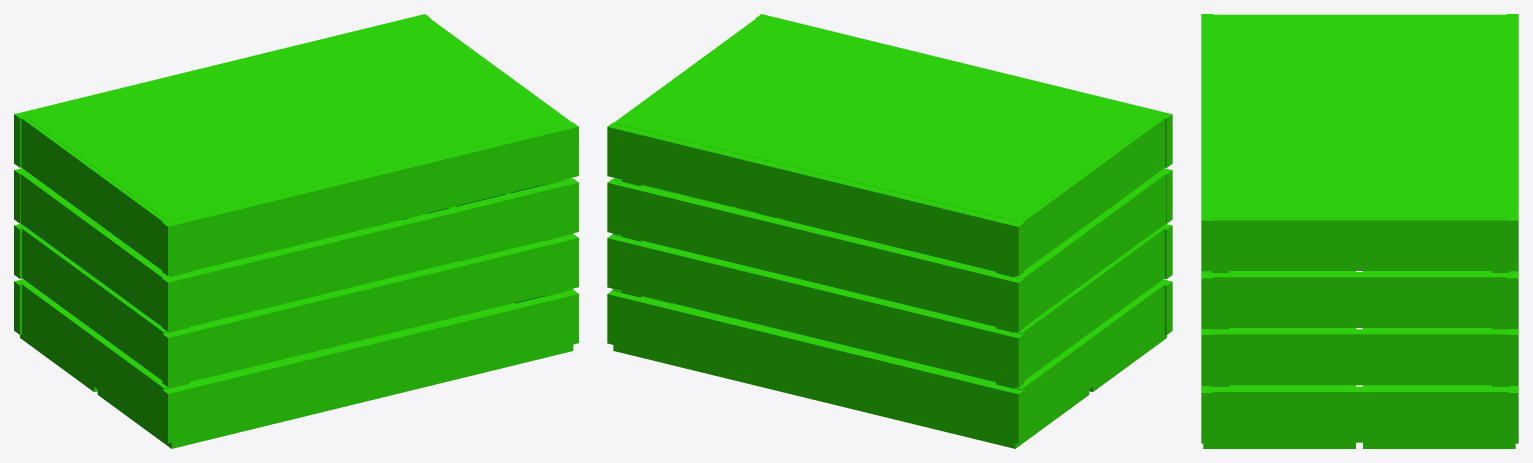
The model's file is Woodbox_02B_Lod0.fbx.
The picture shows the model from 3 angles, left to right: view 1: azimuth 30°, elevation 25°; view 2: azimuth 150°, elevation 25°; view 3: azimuth 270°, elevation 25°; orthographic projection. The views are drawn at different scales.
Visible parts, largest first — view 1: Woodbox_02B_Lod0; view 2: Woodbox_02B_Lod0; view 3: Woodbox_02B_Lod0.
Part boxes in pixels (box(x1,y1,x2,y2)): Woodbox_02B_Lod0: box(14, 14, 578, 448); Woodbox_02B_Lod0: box(607, 14, 1172, 448); Woodbox_02B_Lod0: box(1201, 14, 1518, 448).
Bounding box in the file's own units: 53.98 × 28.14 × 35.04.
